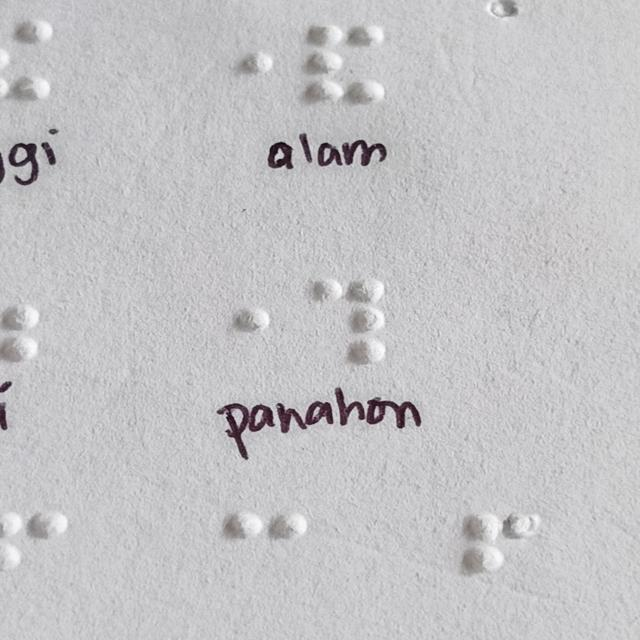alam: (308, 25, 385, 106)
dot_5: (198, 25, 275, 107), (190, 282, 266, 364)
panahon: (306, 282, 383, 364)
